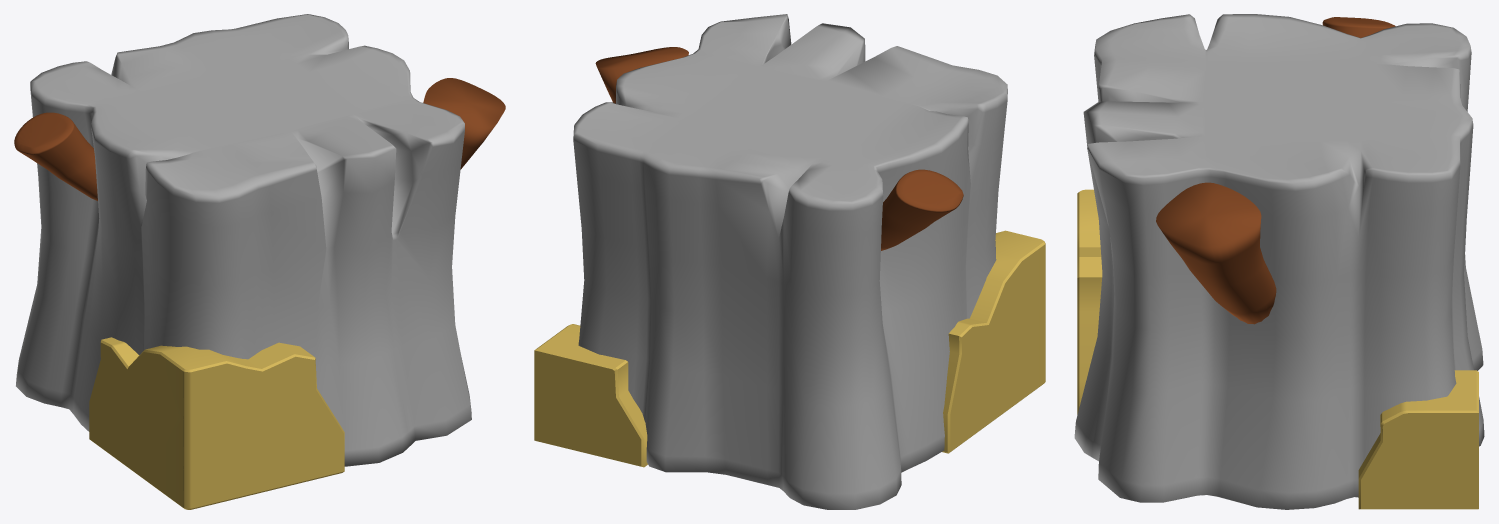
Rendered from WoodenBox_LOD_0.fbx.
3 renders of one model, left to right at view 1: azimuth 30°, elevation 25°; view 2: azimuth 150°, elevation 25°; view 3: azimuth 270°, elevation 25°, orthographic. The views are drawn at different scales.
Parts seen in each view (by area): view 1: pCube4, pCube6, pCylinder4, pCylinder1; view 2: pCube4, pCube6, pCube11, pCylinder4, pCylinder1; view 3: pCube4, pCube11, pCylinder1, pCube6, pCylinder4.
Boxes of the visible parts, x1,y1,x2,y2 form: pCube4: (16,14,471,466); pCube6: (89,337,344,509); pCylinder4: (14,112,97,200); pCylinder1: (423,78,505,169); pCube4: (573,14,1007,509); pCube6: (942,230,1045,453); pCube11: (534,324,647,467); pCylinder4: (881,169,963,250); pCylinder1: (595,47,688,103); pCube4: (1074,14,1484,509); pCube11: (1358,370,1478,509); pCylinder1: (1156,182,1276,324); pCube6: (1077,189,1102,414); pCylinder4: (1322,17,1395,37).
Bounding box in the file's own units: 132 × 93.34 × 104.
